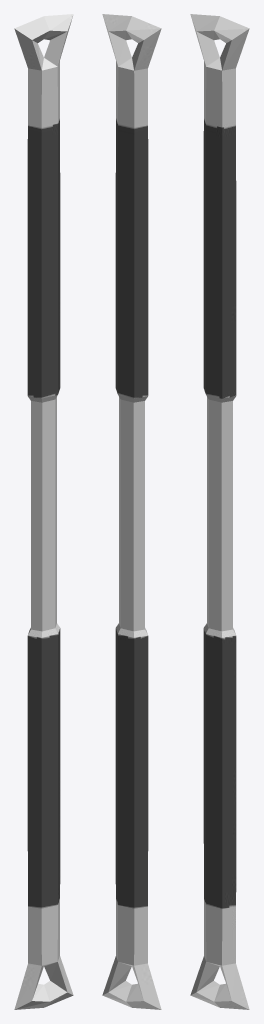
File: steel-staff.obj
3 renders of one model, left to right at view 1: azimuth 30°, elevation 25°; view 2: azimuth 150°, elevation 25°; view 3: azimuth 330°, elevation 25°, orthographic.
Parts seen in each view (by area): view 1: Mesh_Mesh_KingdomStaff_Cub; view 2: Mesh_Mesh_KingdomStaff_Cub; view 3: Mesh_Mesh_KingdomStaff_Cub.
Boxes of the visible parts, left/top/right/bottom form: Mesh_Mesh_KingdomStaff_Cub: left=14, top=14, right=73, bottom=1009; Mesh_Mesh_KingdomStaff_Cub: left=102, top=14, right=161, bottom=1009; Mesh_Mesh_KingdomStaff_Cub: left=190, top=14, right=249, bottom=1009.
Size of the model in its own units: 0.1629 by 2.6 by 0.0565.
2 materials, 2 textured.
